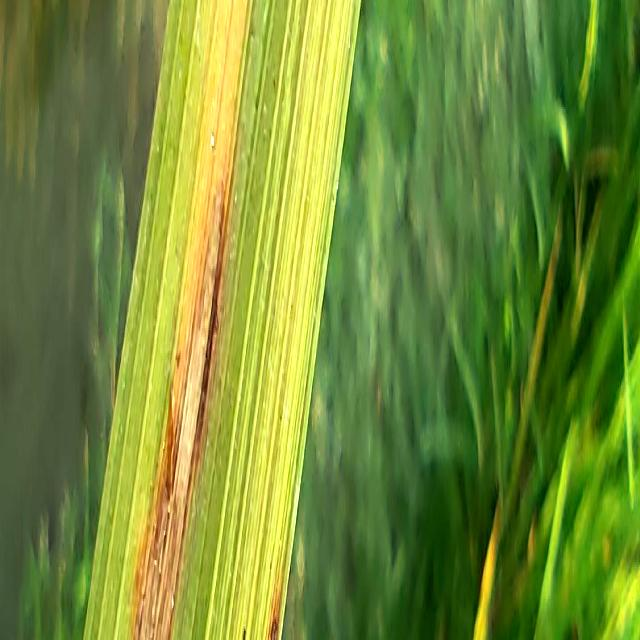LEAF BLAST: (127, 147, 231, 640), (266, 596, 282, 640)
